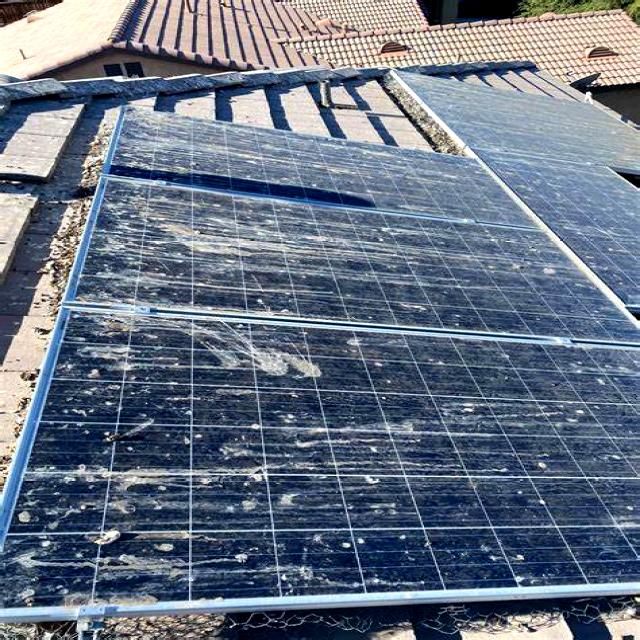bird: (240, 408, 396, 486), (116, 197, 270, 252), (196, 338, 311, 388), (76, 266, 188, 298), (59, 338, 149, 368), (215, 540, 284, 572), (68, 522, 132, 542), (144, 540, 190, 554)
